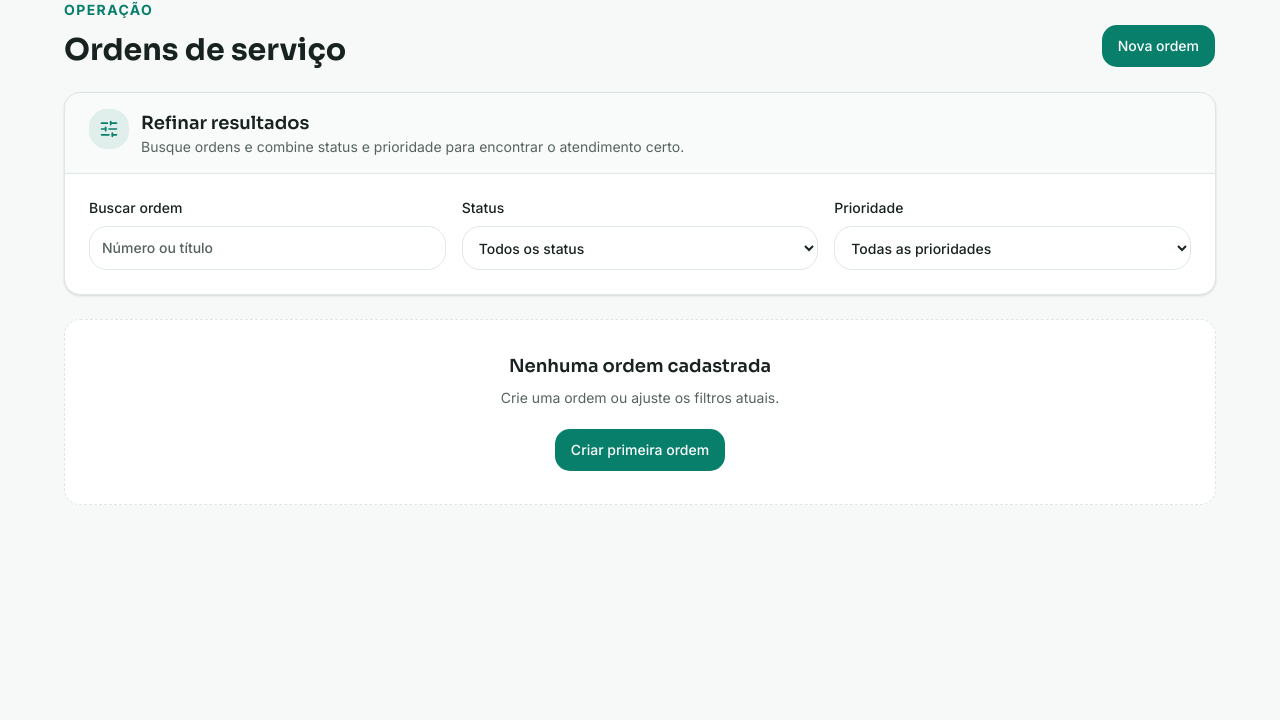
work order dialogs › selects or skips equipment through a guided choice
Expected: the heading "Nenhuma ordem cadastrada" is shown, [509,352,771,380]
Click the button "Nova ordem" at (1158, 46), box [1101,24,1216,68]
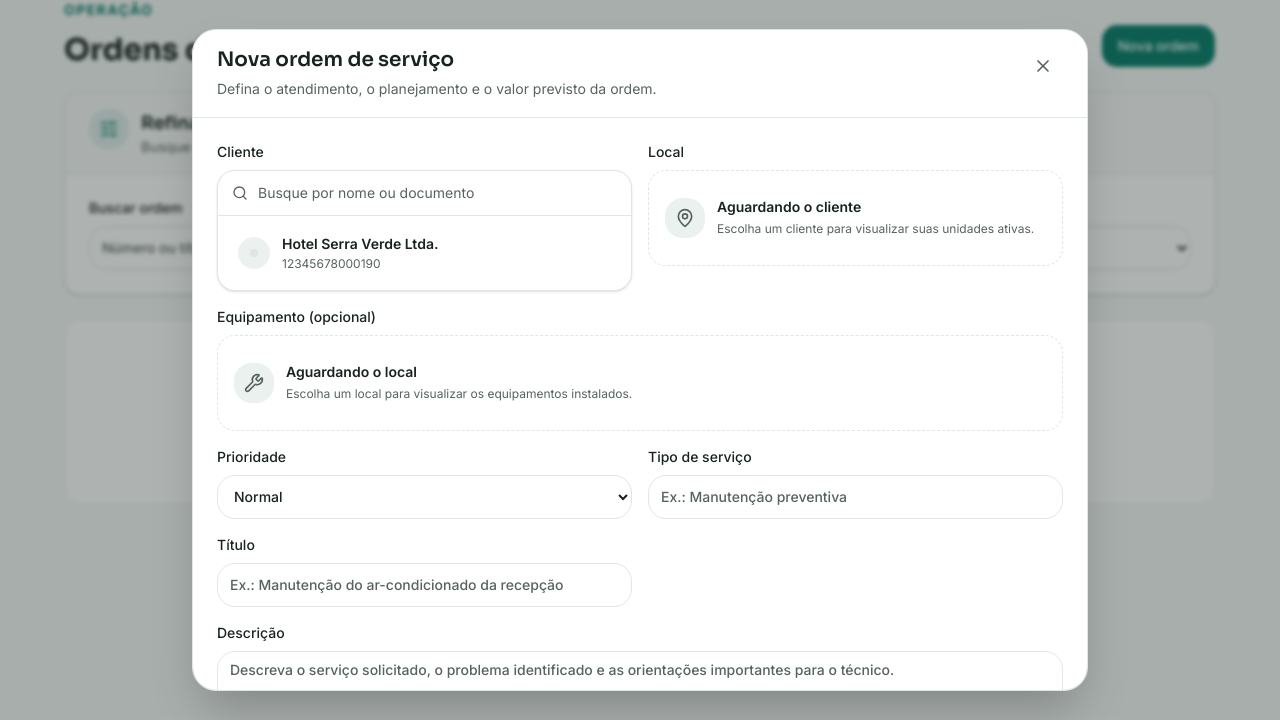
Click the button "Hotel Serra Verde Ltda. 12345678000190" at (424, 252), box [226,224,623,282]
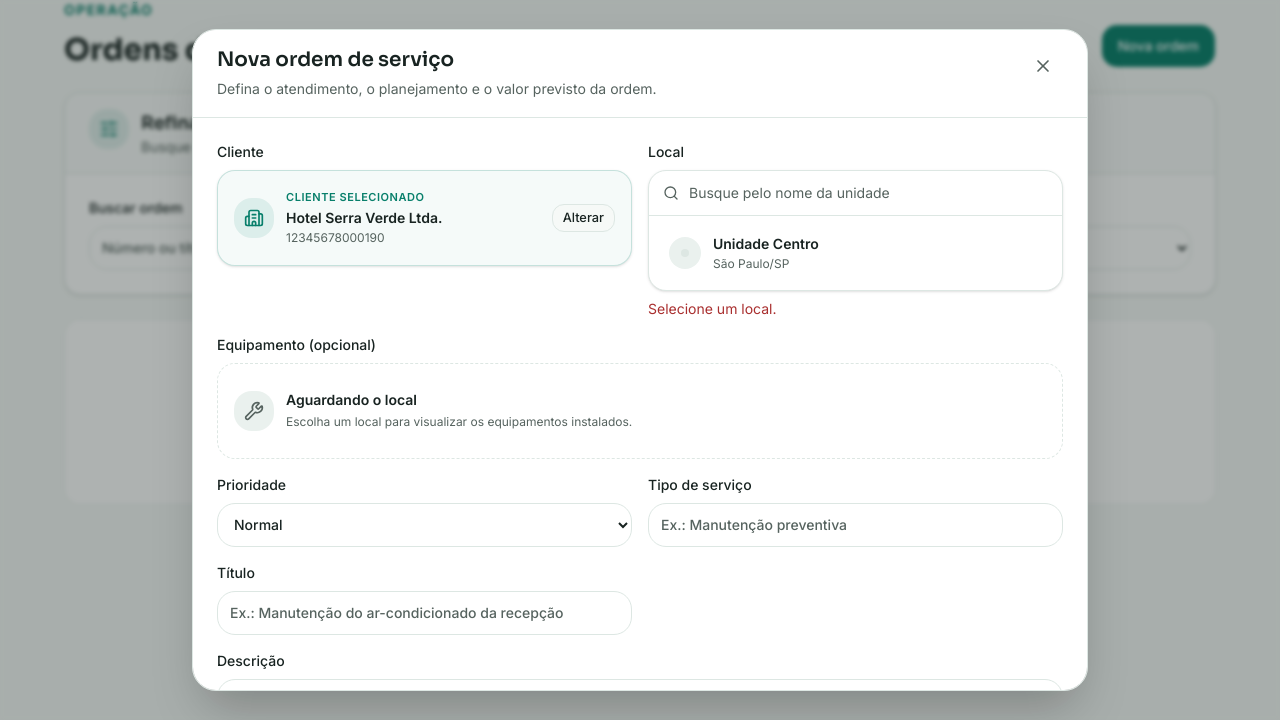
Click the button "Unidade Centro São Paulo/SP" at (685, 253), box [657,224,1054,282]
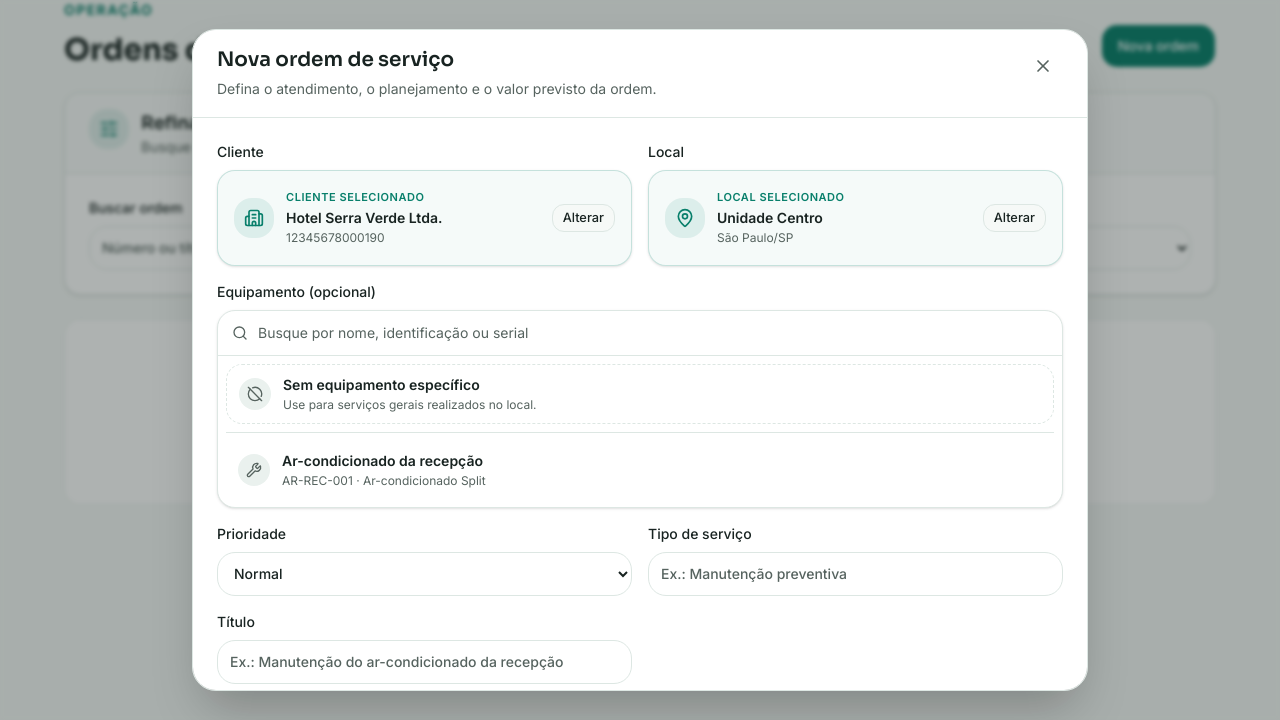
Click the button with aria-label "Selecionar equipamento Ar-condicionado da recepção" at (254, 470), box [226,440,1054,498]
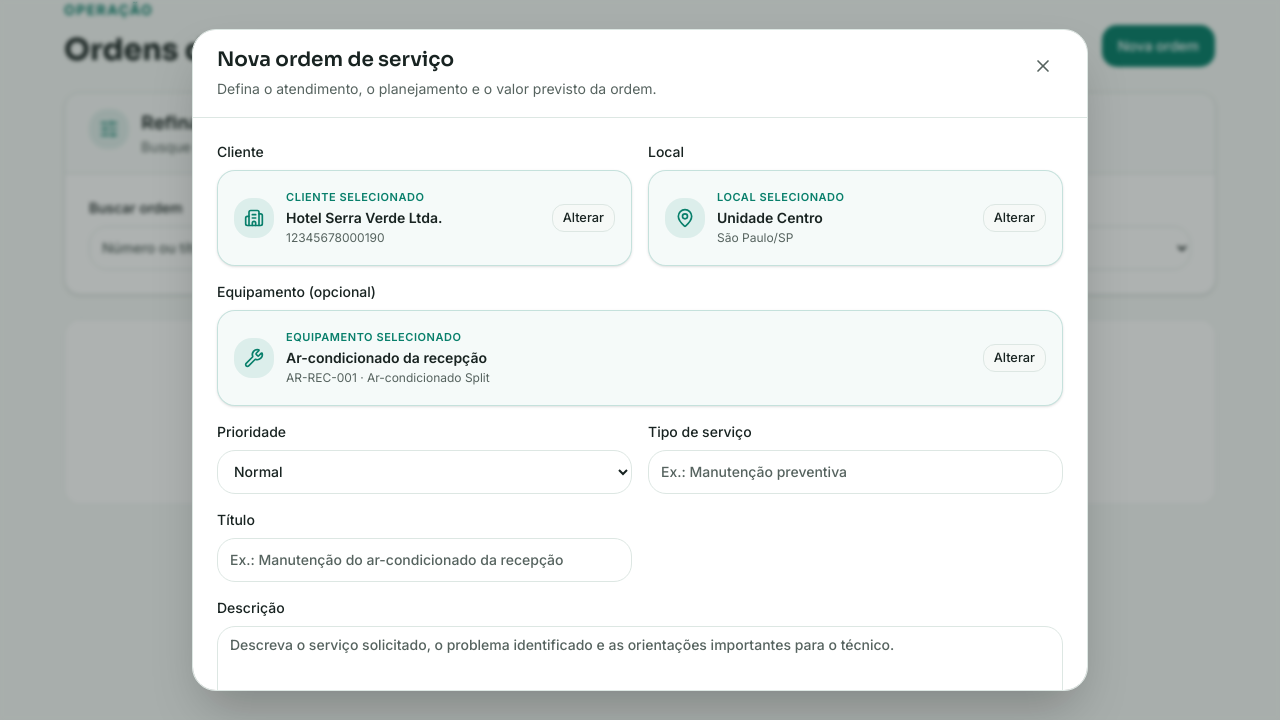
Expected: the button with aria-label "Alterar equipamento" is shown
Click the button with aria-label "Alterar equipamento" at (1014, 358), box [983,344,1046,372]
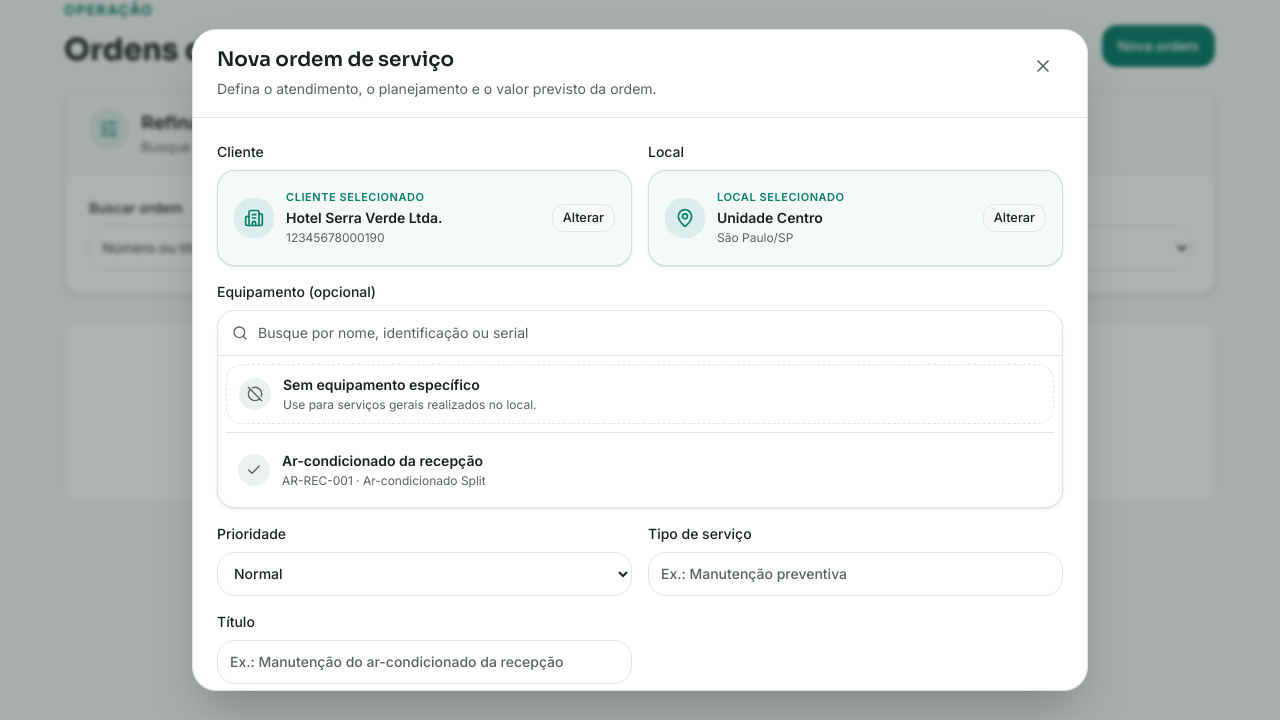
Click the button "Sem equipamento específico" at (255, 394), box [226,364,1054,424]
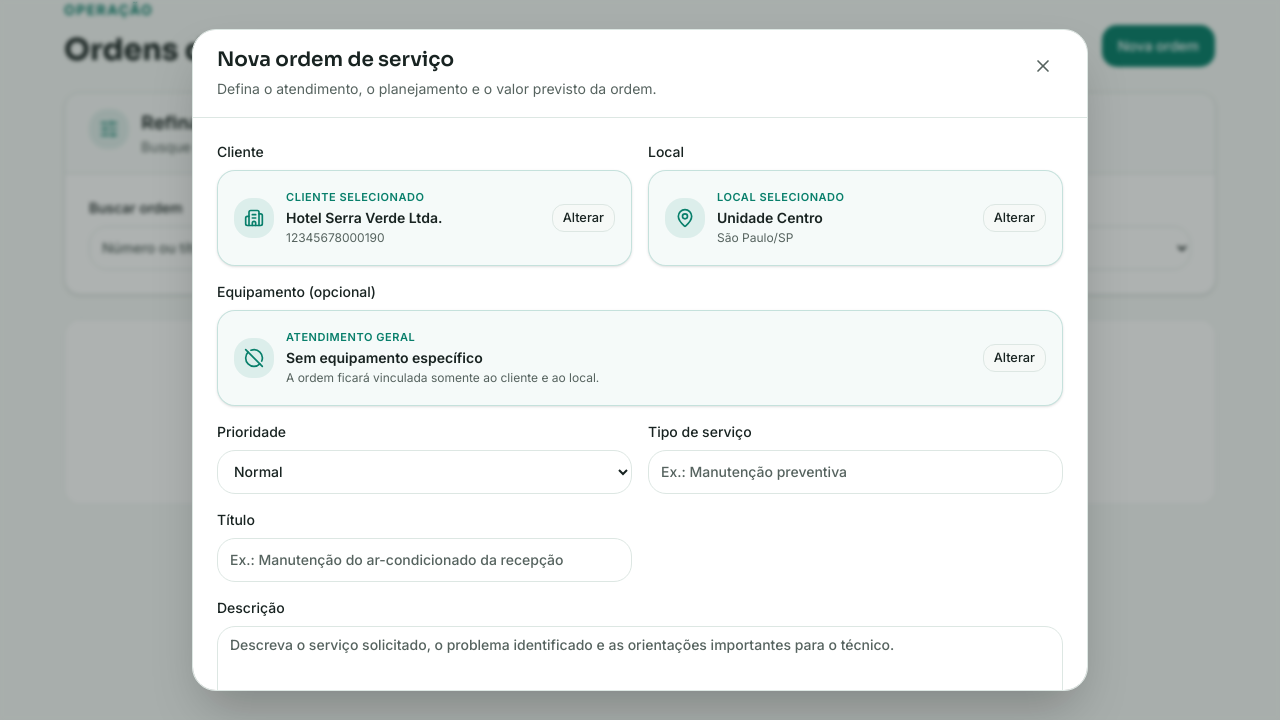
Expected: the text "Atendimento geral" is shown, [286,330,415,344]
